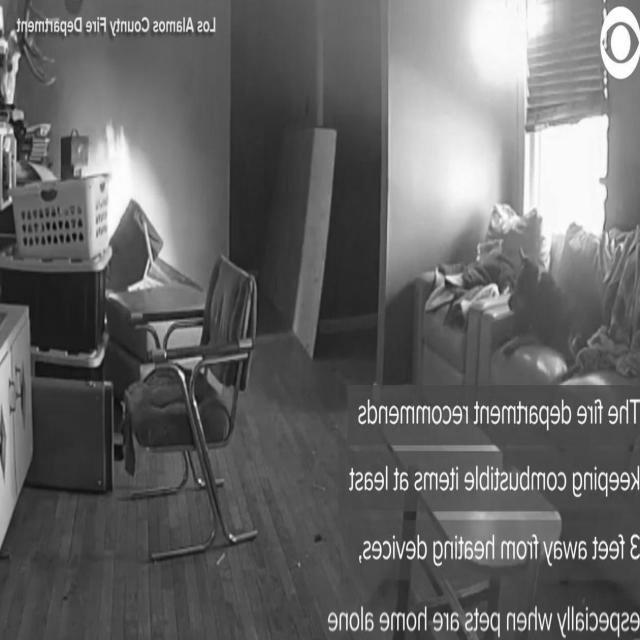smoke: (91, 121, 146, 234)
